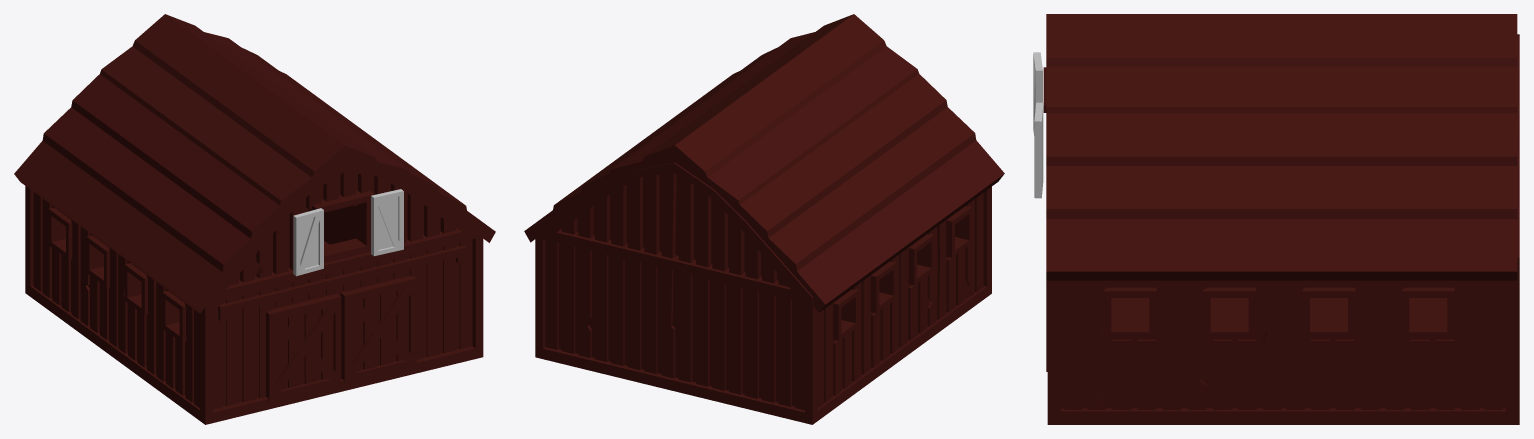
The model's file is farm.barn.t2.glb.
The picture shows the model from 3 angles, left to right: view 1: azimuth 30°, elevation 25°; view 2: azimuth 150°, elevation 25°; view 3: azimuth 270°, elevation 25°; orthographic projection. The views are drawn at different scales.
Size of the model in its own units: 0.9397 by 0.7308 by 1.
